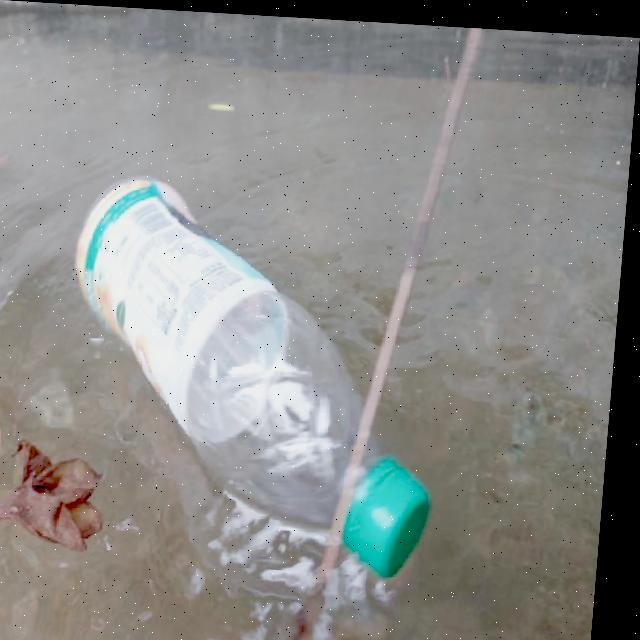leaf: (59, 171, 478, 557)
